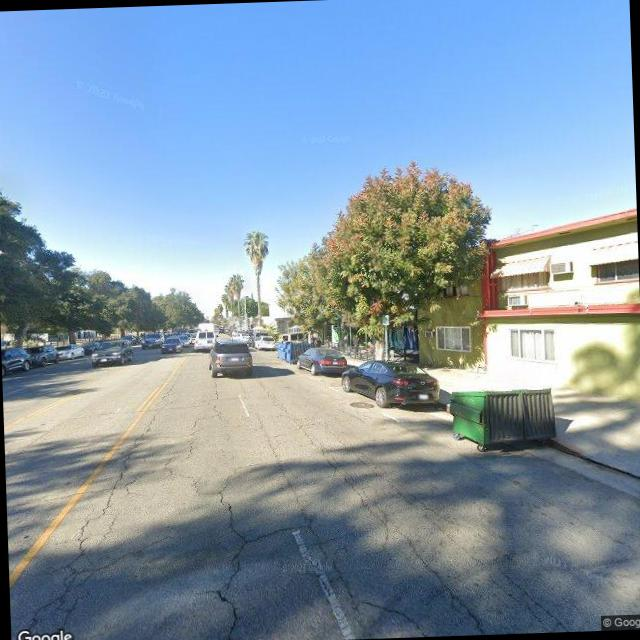crack: (15, 387, 533, 640)
